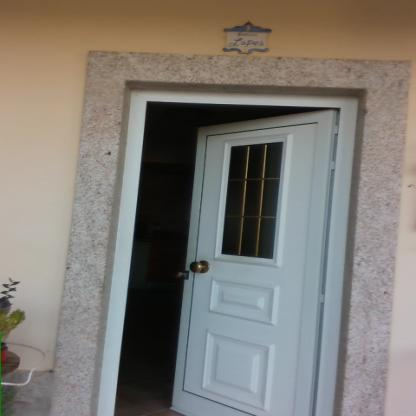semi: (96, 79, 358, 411)
